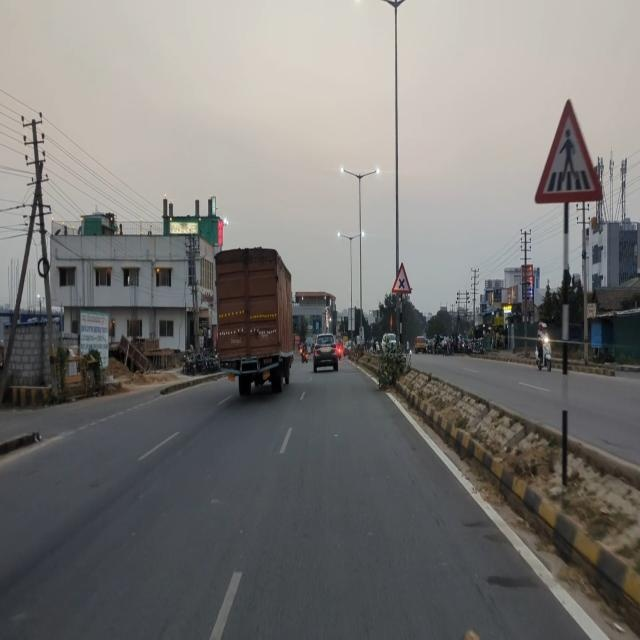bien_nguy_hiem: (532, 98, 604, 202), (392, 261, 411, 294)
